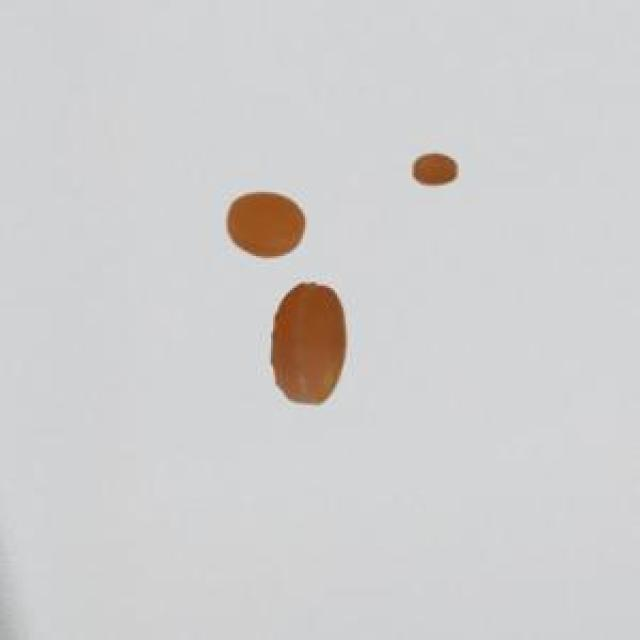Bactidol: (265, 276, 351, 418), (218, 179, 320, 266), (402, 146, 466, 196)
